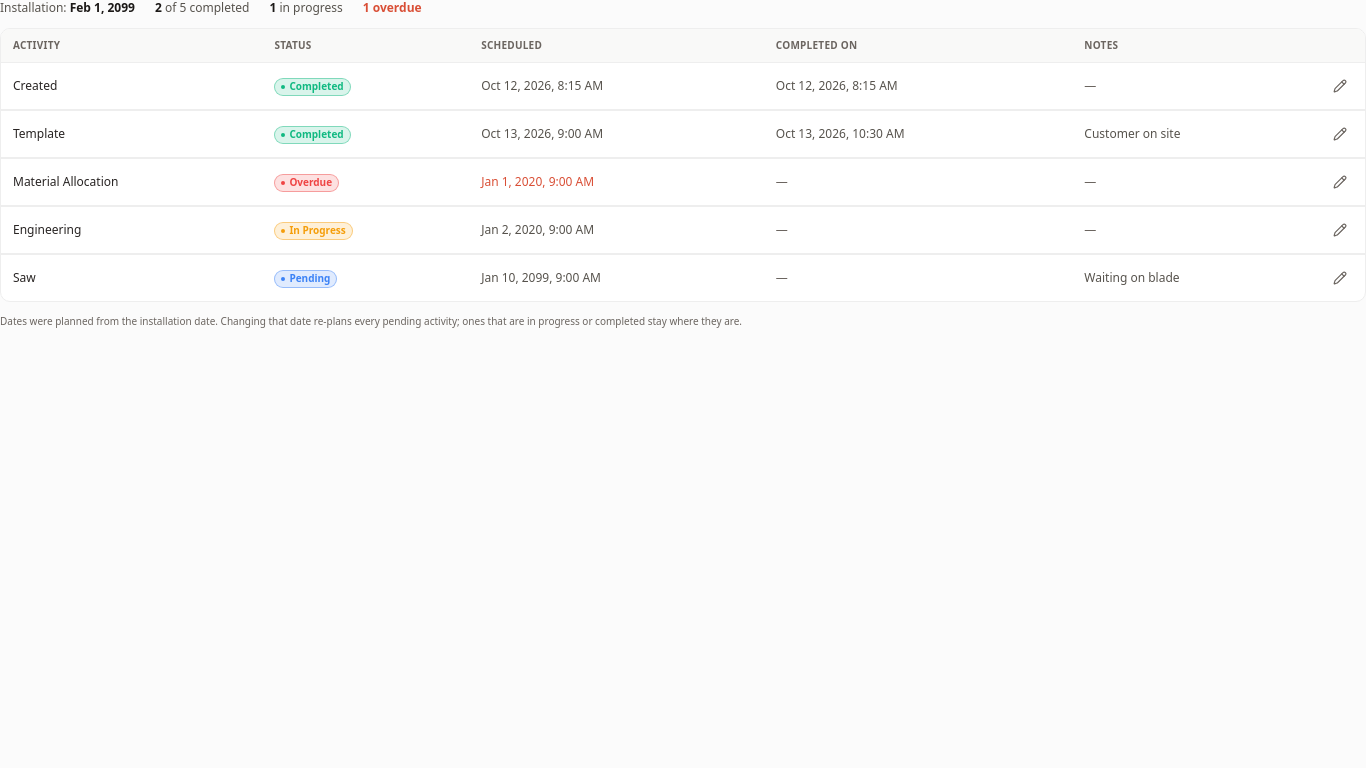
Test case: SalesOrderSchedulingTab › offers pending, in progress and completed in the row editor
expect the table is shown: met, box [1,29,1365,301]
Step 1. Click the button named "Edit Saw" → (1340, 278), box [1327,265,1353,291]
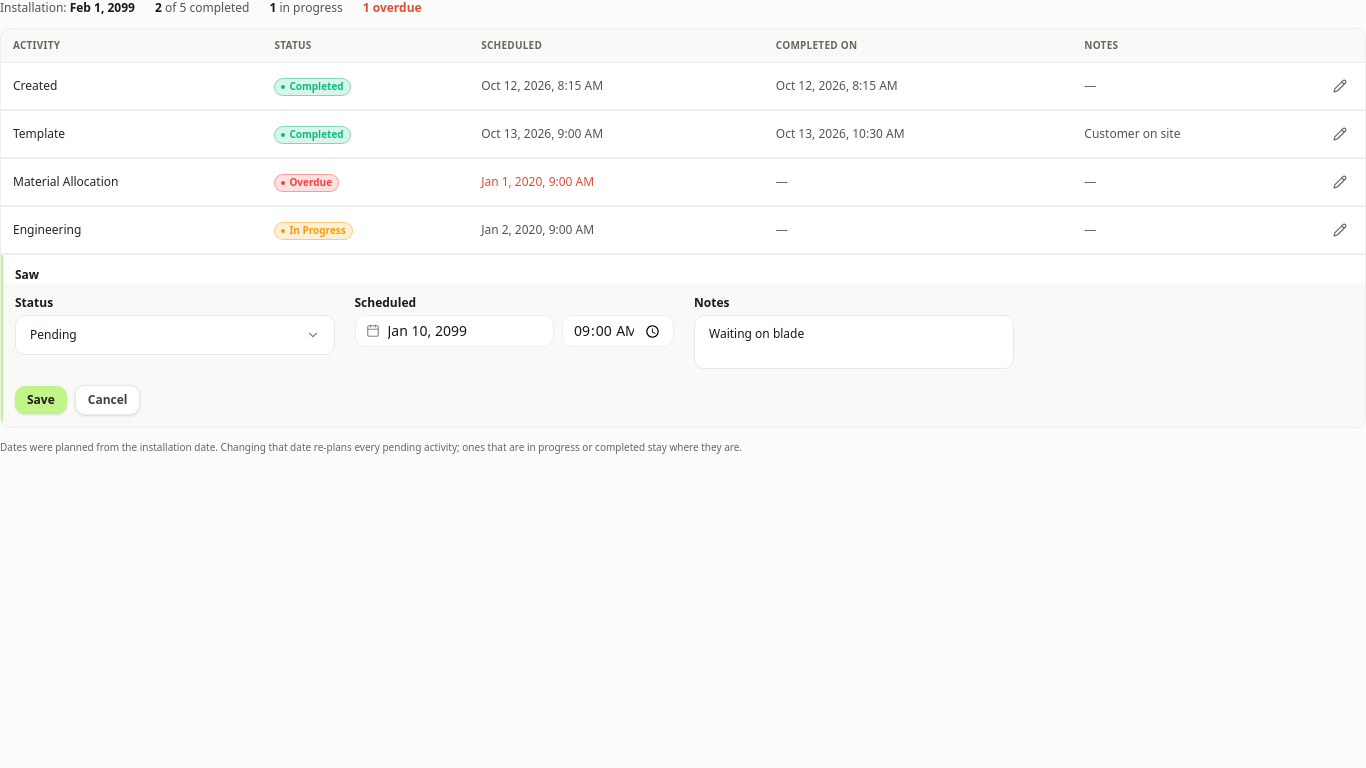
Step 2. Click the dropdown named "Status for Saw" → (53, 335), box [15,315,334,355]
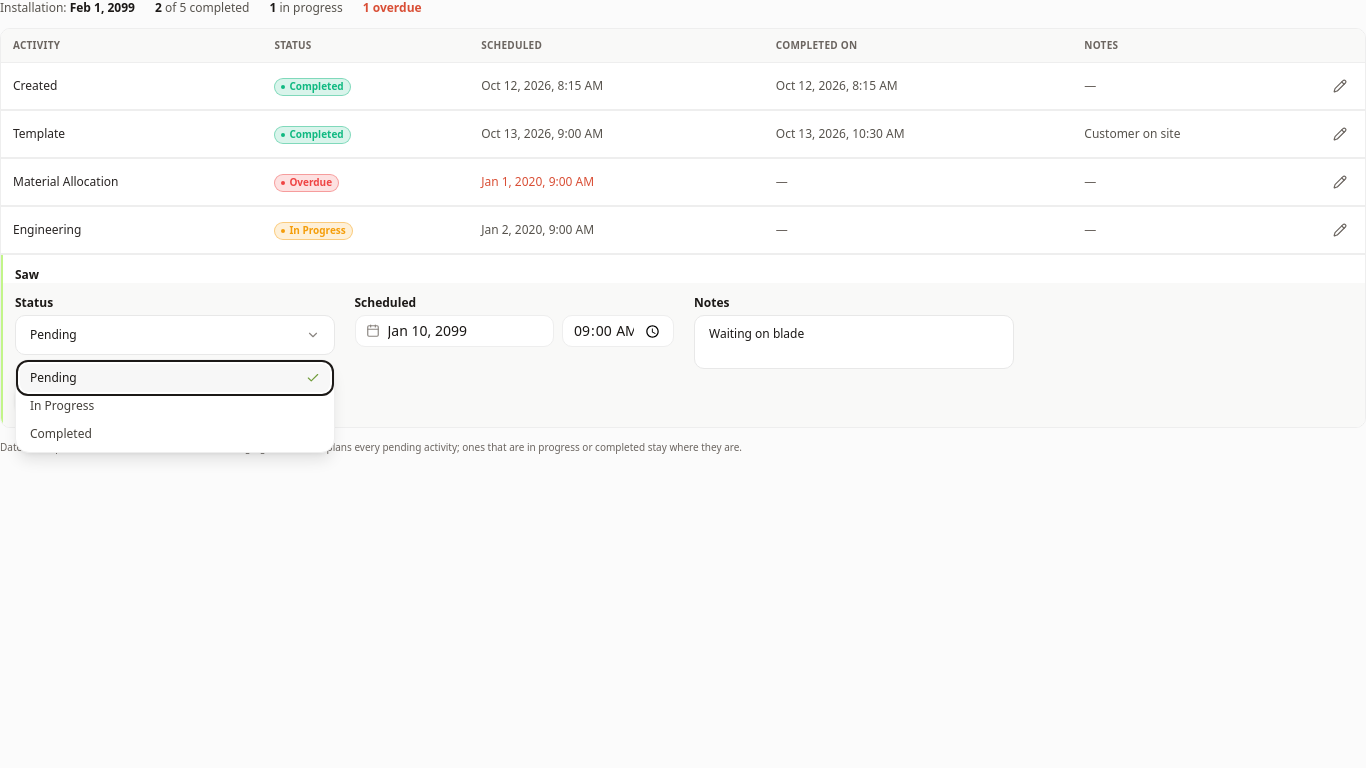
expect the options read "Pending", "In Progress", "Completed", in this order: met, box [20,364,330,392]; [20,392,330,420]; [20,420,330,448]
